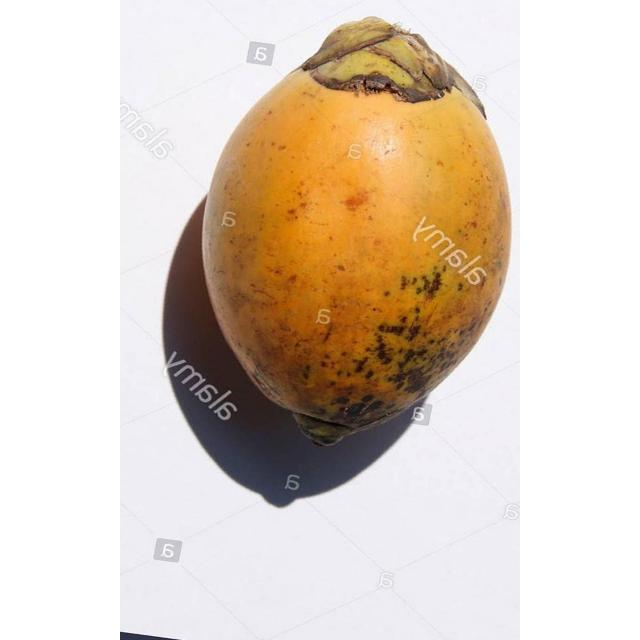good: (201, 16, 513, 448)
